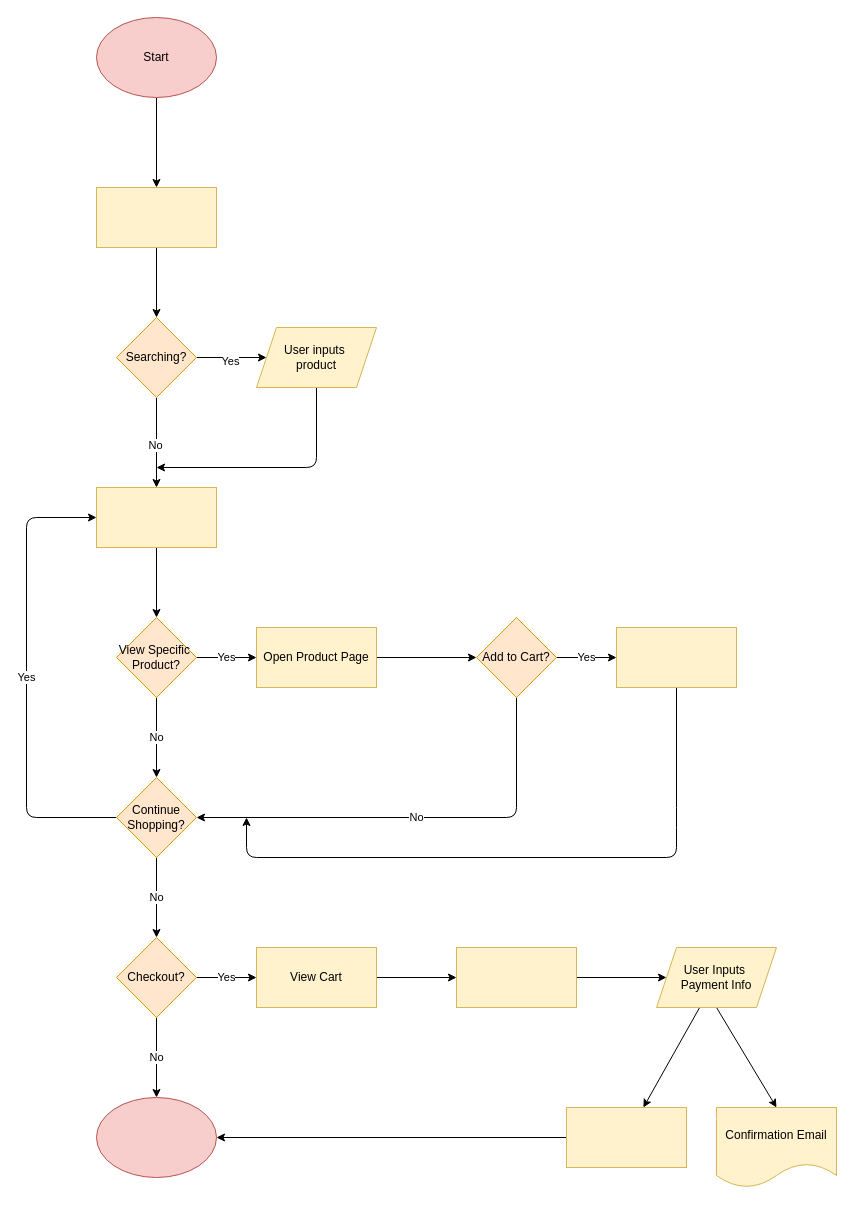
This 854x1205 diagram has some shape labels left out. The shapes that lost their labels are listed below. From the top down, each one's centre as x and y in pixels, then its label:
At (156,217): "User enters website".
At (156,517): "User views products".
At (676,657): "Add to Cart confirmation".
At (516,977): "View Payment".
At (156,1137): "Leave Website".
At (626,1137): "Order Confirmation".
